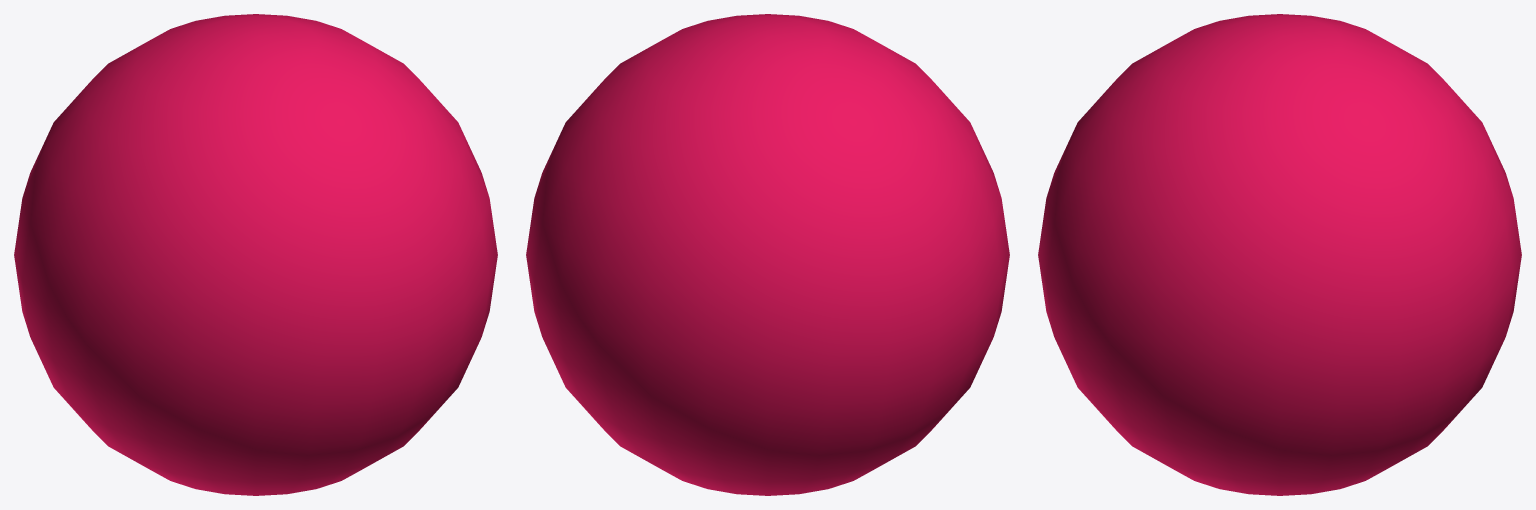
File: asset.gltf
The picture shows the model from 3 angles, left to right: view 1: azimuth 30°, elevation 25°; view 2: azimuth 150°, elevation 25°; view 3: azimuth 270°, elevation 25°; orthographic projection.
Parts seen in each view (by area): view 1: Sphere; view 2: Sphere; view 3: Sphere.
Part boxes in pixels (x1,y1,x2,y2): Sphere: (14,14,497,495); Sphere: (526,14,1009,495); Sphere: (1038,14,1521,495).
Bounding box in the file's own units: 40 × 40 × 40.
